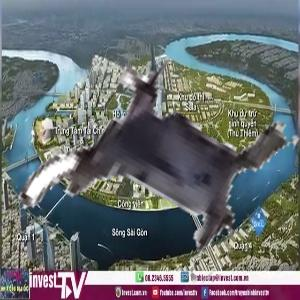drone: (31, 34, 296, 299)
